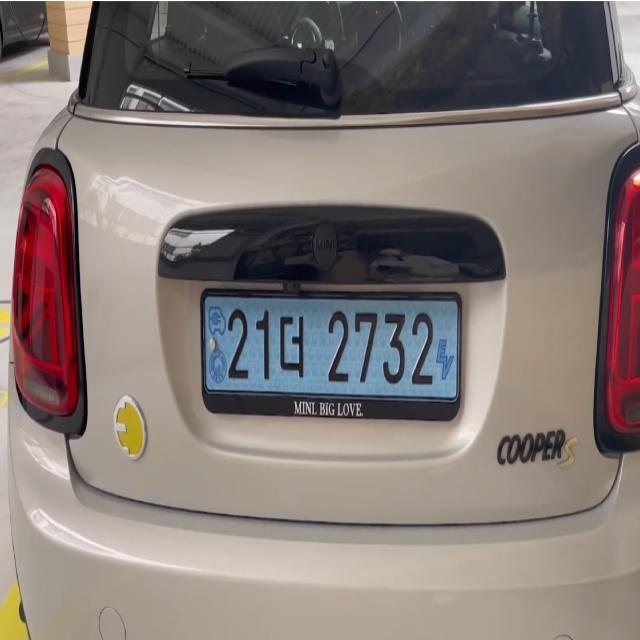car: (168, 272, 500, 449)
carev: (432, 289, 466, 414), (202, 287, 229, 399)
